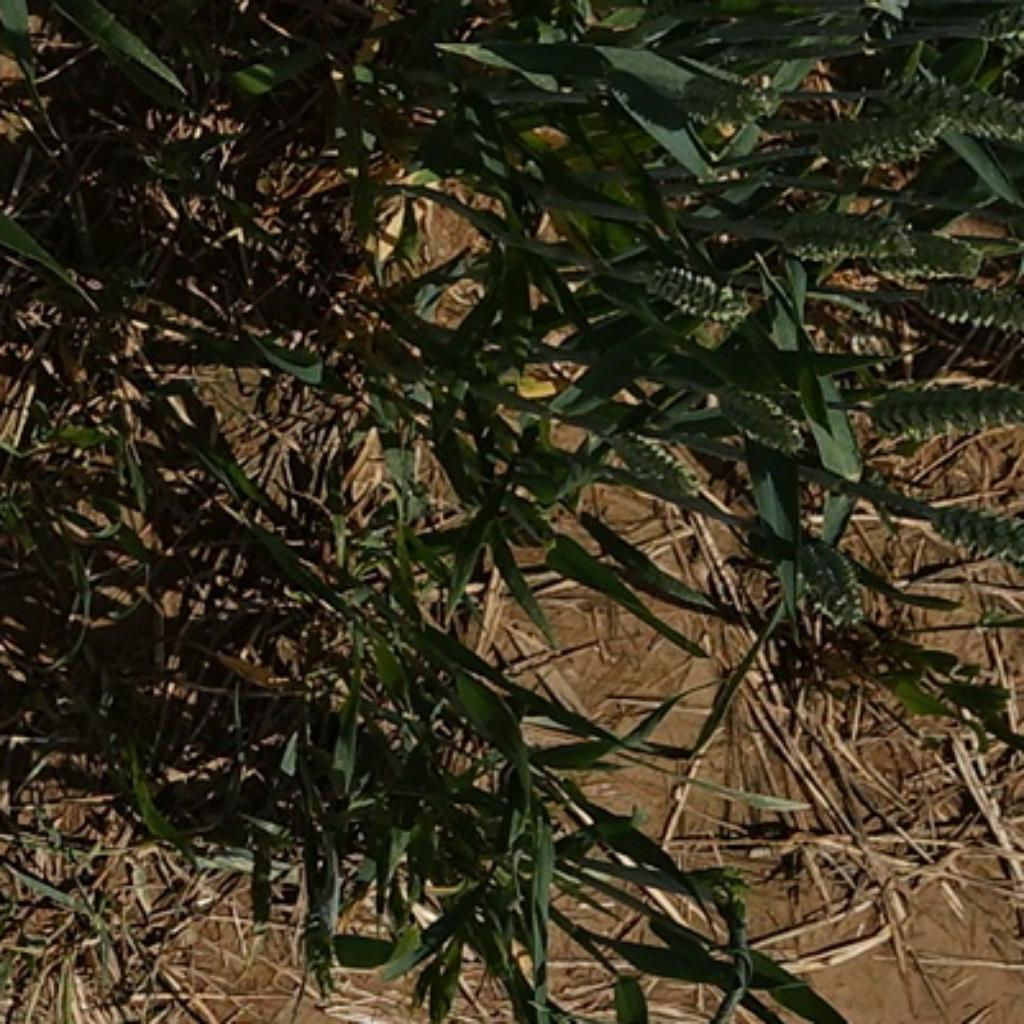0-0: (765, 197, 929, 271), (782, 524, 881, 626), (870, 76, 1024, 140), (629, 258, 760, 333), (808, 107, 942, 171), (601, 421, 701, 503), (706, 373, 806, 453), (875, 386, 1021, 440), (872, 225, 993, 284), (916, 273, 1021, 337), (924, 494, 1024, 547), (720, 70, 788, 121), (970, 1, 1024, 51)
